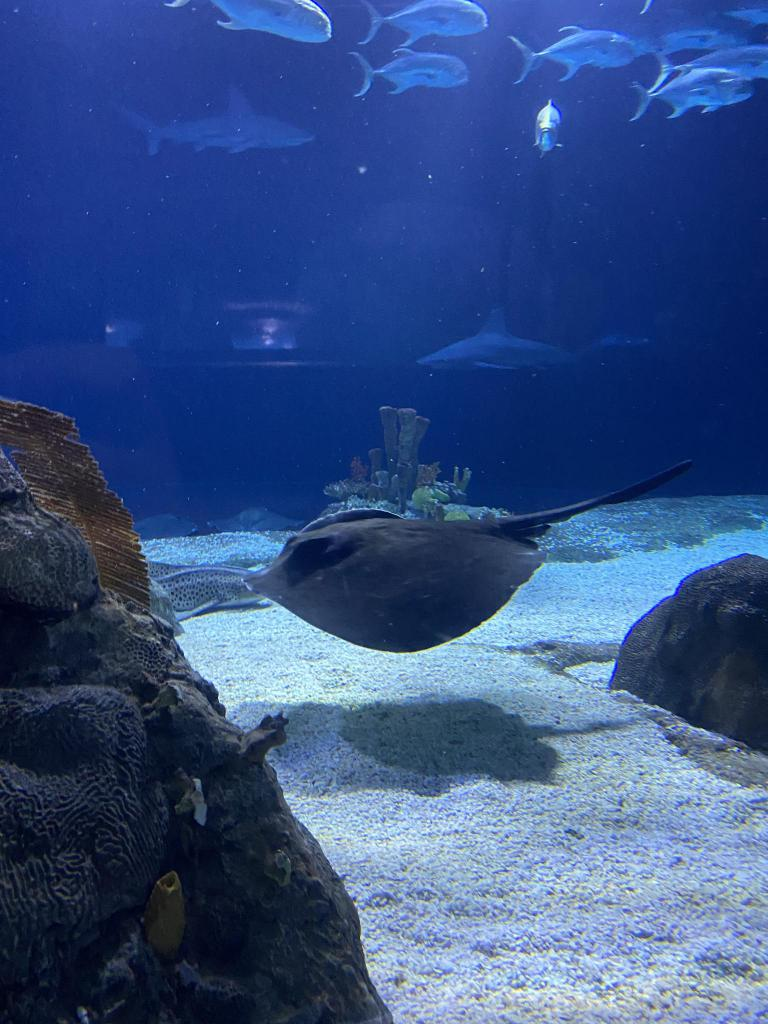fish: (165, 0, 332, 44), (509, 26, 637, 82), (351, 48, 467, 98), (361, 0, 488, 42), (651, 50, 767, 92), (630, 78, 750, 118), (631, 18, 751, 56), (706, 0, 767, 29), (534, 100, 562, 152)
shark: (122, 84, 316, 154), (421, 310, 591, 374), (132, 557, 270, 619)
stingray: (241, 510, 547, 652)
